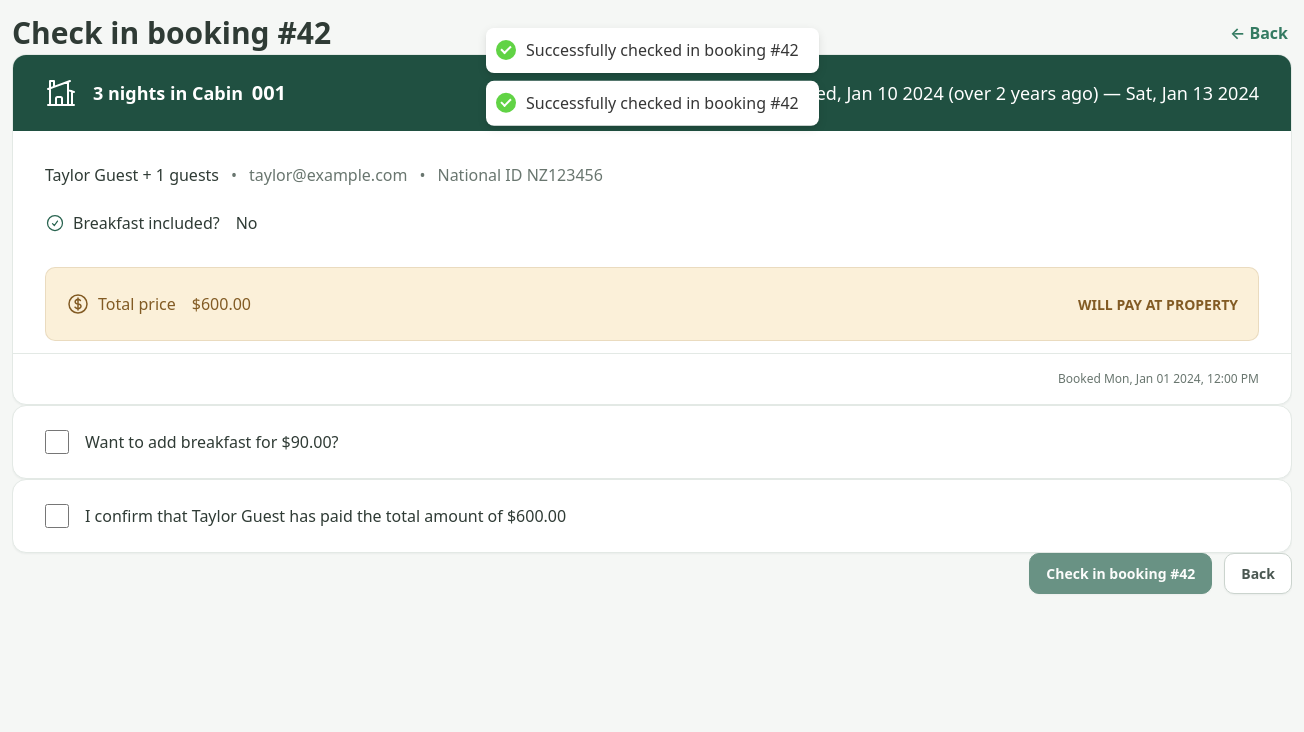
Scenario: CheckinBooking › does not navigate away when the check-in mutation fails
This screenshot has width=1304, height=732.
Click the checkbox labelled "I confirm that". click: [57, 516]
box: [45,504,69,528]
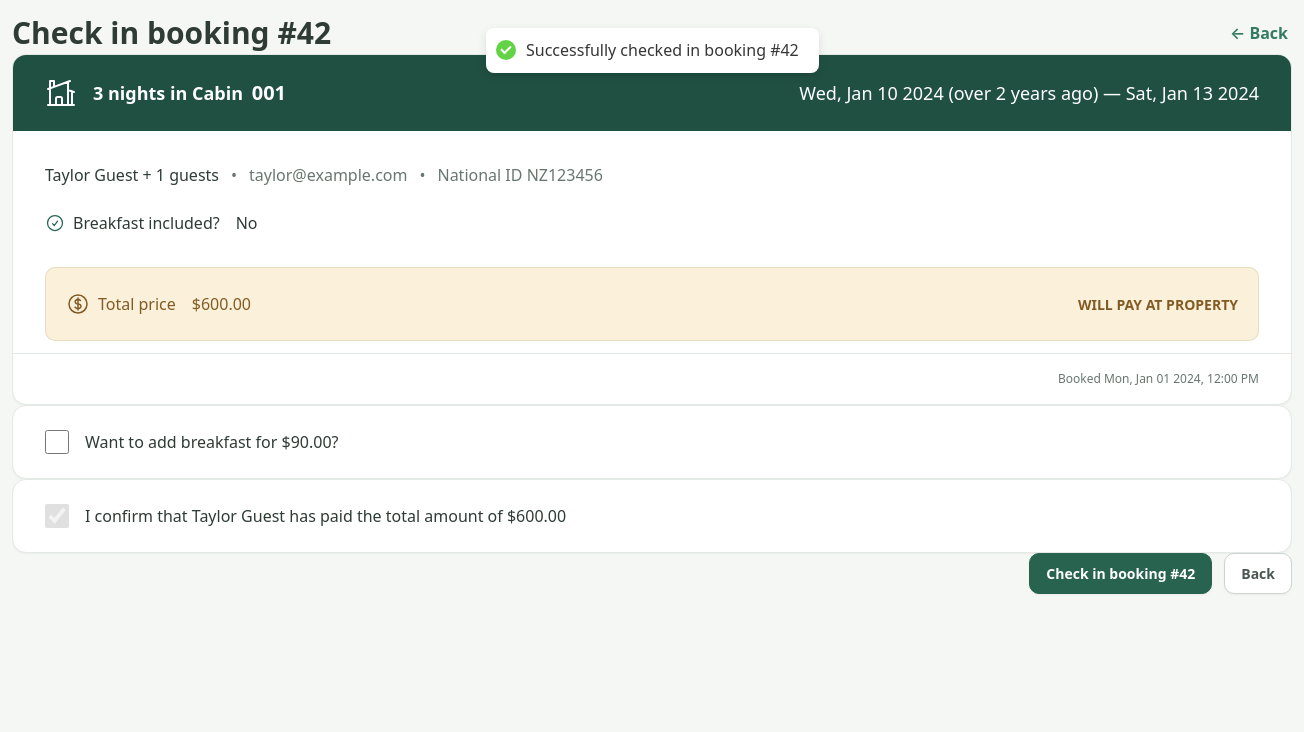
Click the button "Check in booking #42". click: [1121, 574]
box: [1029,553,1212,594]
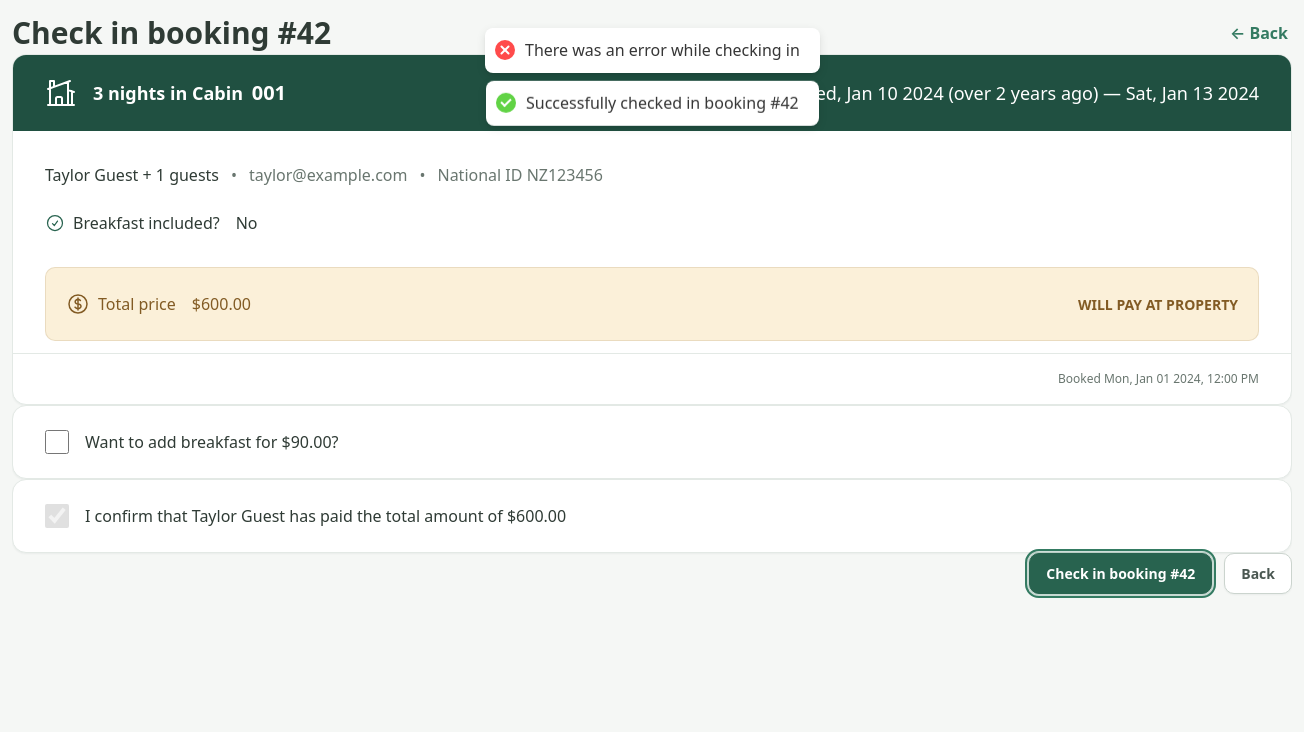
Check: the text "There was an error while checking in" is shown, box [525,40,799,61]
